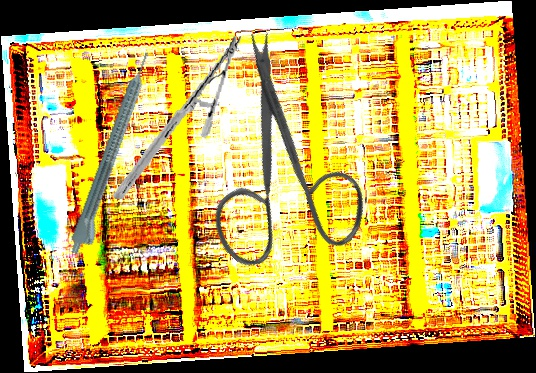Handpiece: (66, 50, 163, 259)
Iris Scissors: (129, 22, 418, 309)
Needle Holder: (112, 21, 244, 214)
